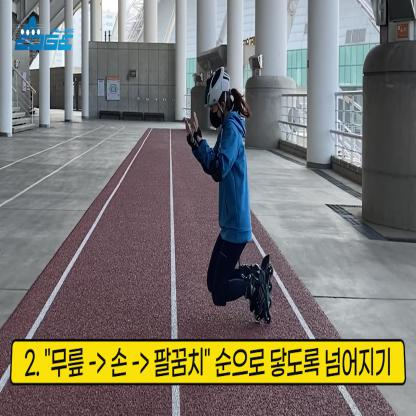Fall_Down: (183, 72, 268, 322)
